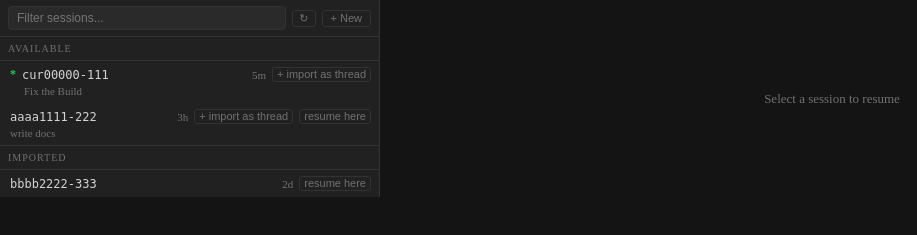
Test: SessionsPanel › resume here › notes a switch deferred until the current run ends
Expected: the text "cur00000-111" is shown, [22,68,109,82]
Click the button "resume here" in the row of "3h" at (335, 116), box [299,109,371,124]
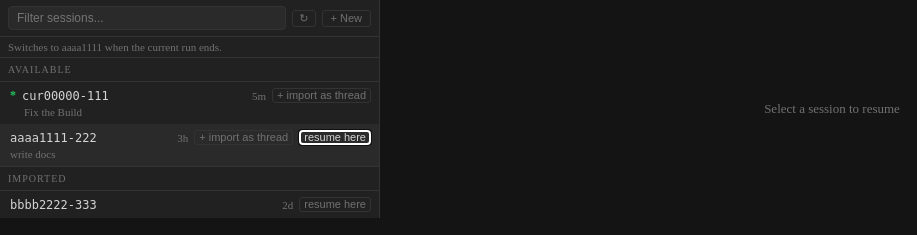
Expected: the button "resume here" in the row of "3h" is shown, [299,130,371,145]
Result: the text with test id "session-resume-note" reads "Switches to aaaa1111 when the current run ends." at [8,41,222,53]
